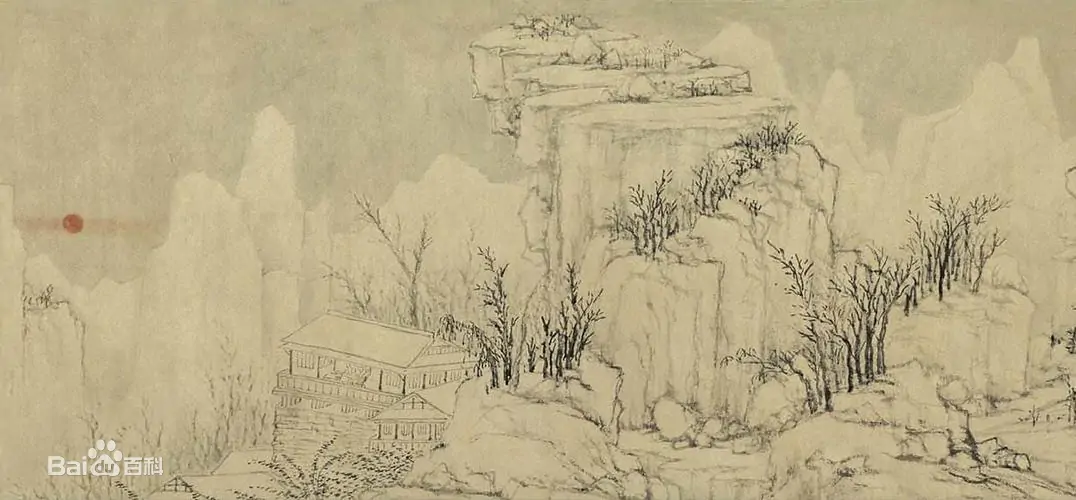house: (273, 300, 475, 459)
mountain: (3, 106, 482, 264), (902, 26, 1069, 169)
sun: (55, 204, 97, 248)
tree: (751, 193, 1019, 413), (614, 121, 811, 260), (460, 253, 604, 390)
